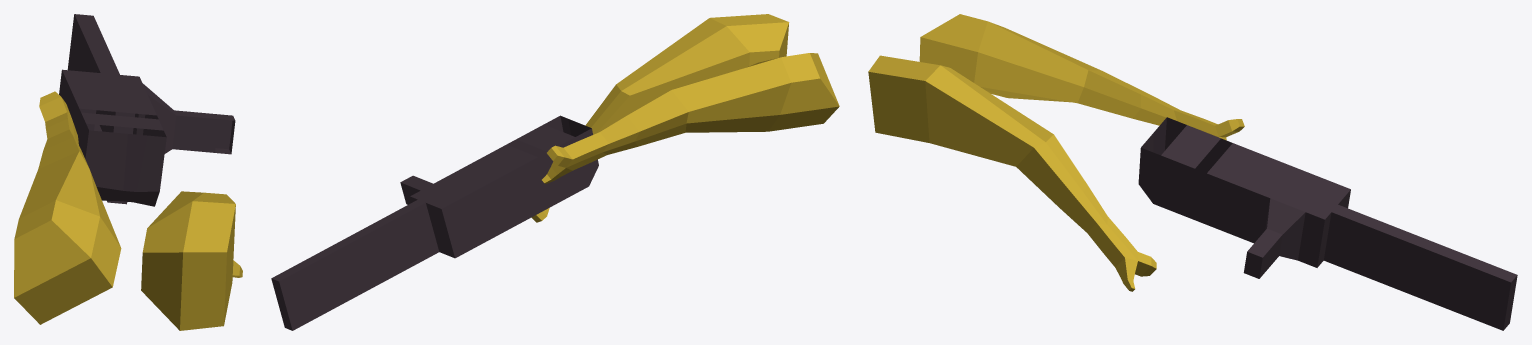
Rendered from arme_000023.obj.
3 renders of one model, left to right at view 1: azimuth 30°, elevation 25°; view 2: azimuth 150°, elevation 25°; view 3: azimuth 270°, elevation 25°, orthographic. The views are drawn at different scales.
Parts seen in each view (by area): view 1: Cube.048_Cube.024, Cube.046_Cube.010; view 2: Cube.048_Cube.024, Cube.046_Cube.010; view 3: Cube.048_Cube.024, Cube.046_Cube.010.
Part boxes in pixels (x1,y1,x2,y2): Cube.048_Cube.024: (14, 91, 242, 330); Cube.046_Cube.010: (59, 14, 235, 206); Cube.048_Cube.024: (531, 14, 839, 222); Cube.046_Cube.010: (271, 115, 598, 330); Cube.048_Cube.024: (868, 14, 1244, 291); Cube.046_Cube.010: (1138, 117, 1517, 330).
Size of the model in its own units: 1413 by 689 by 2343.
